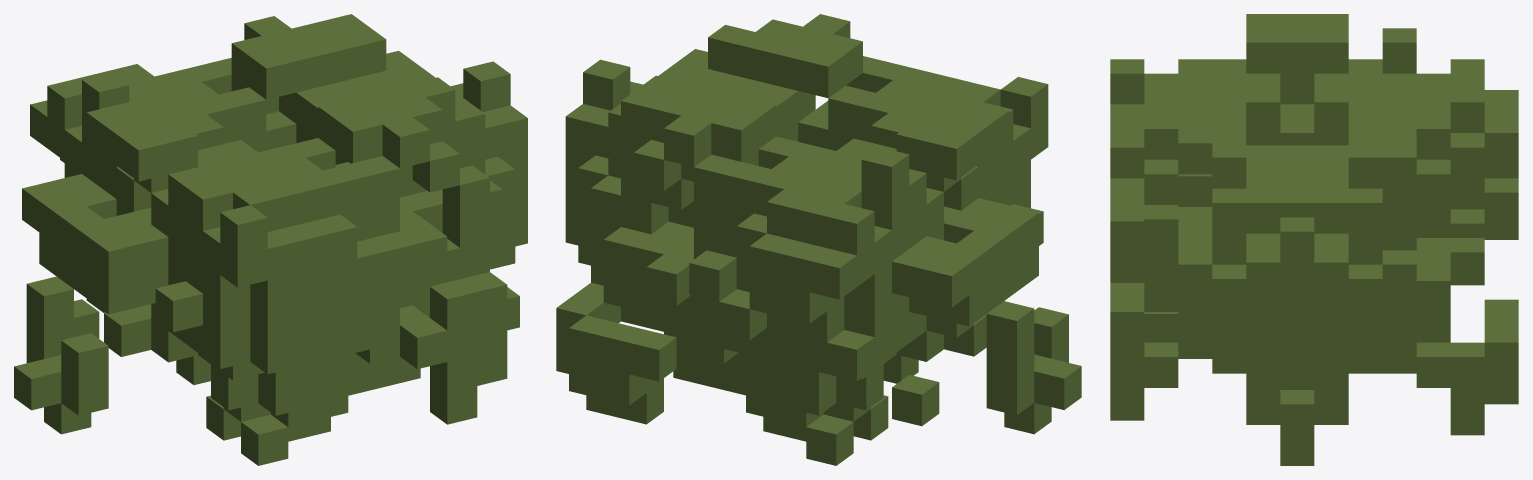
Rendered from good-10.obj.
3 views of the same model, side by side, from view 1: azimuth 30°, elevation 25°; view 2: azimuth 150°, elevation 25°; view 3: azimuth 270°, elevation 25° (orthographic). The views are drawn at different scales.
Size of the model in its own units: 1.6 by 1.1 by 1.2.
Materials: 1 (1 with a texture image).
